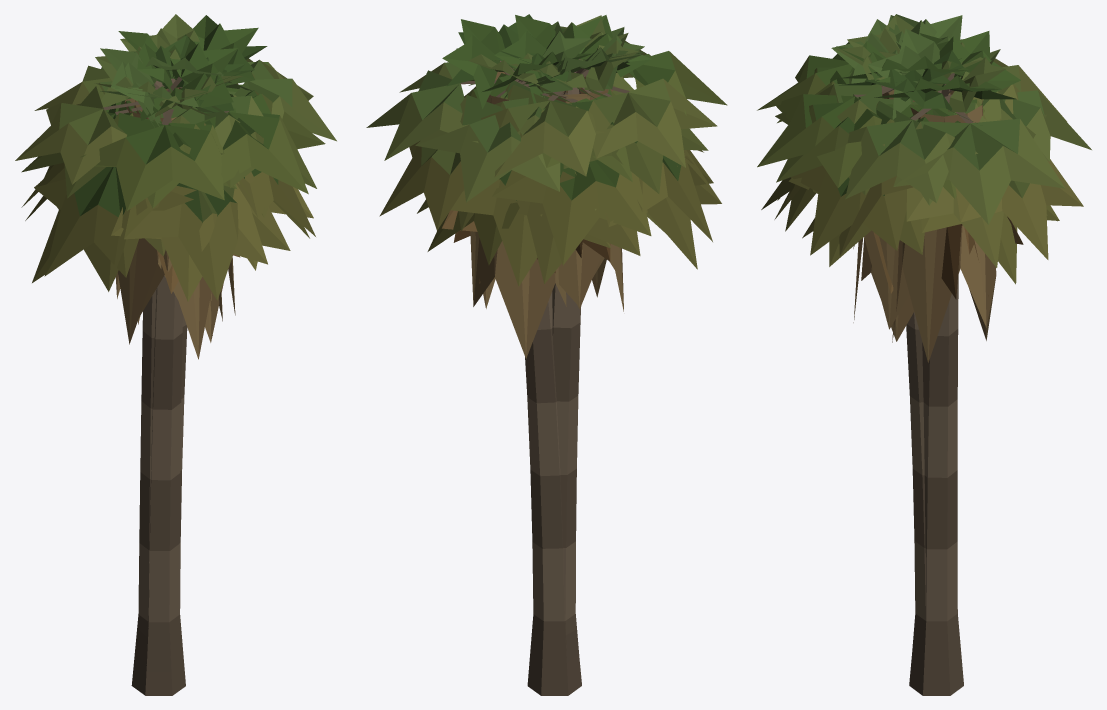
File: fanpalm.glb
The picture shows the model from 3 angles, left to right: view 1: azimuth 30°, elevation 25°; view 2: azimuth 150°, elevation 25°; view 3: azimuth 270°, elevation 25°; orthographic projection.
Parts seen in each view (by area): view 1: fanpalm_v2, fanpalm_v0, fanpalm_v1; view 2: fanpalm_v1, fanpalm_v0, fanpalm_v2; view 3: fanpalm_v1, fanpalm_v2, fanpalm_v0.
Part boxes in pixels (x1,y1,x2,y2): fanpalm_v2: (21,35,325,695); fanpalm_v0: (15,34,316,637); fanpalm_v1: (101,14,336,695); fanpalm_v1: (366,14,665,695); fanpalm_v0: (427,15,717,644); fanpalm_v2: (417,15,727,663); fanpalm_v1: (802,29,1091,695); fanpalm_v2: (757,15,1047,644); fanpalm_v0: (761,14,1066,341).
Size of the model in its own units: 5.39 by 11 by 5.17.
